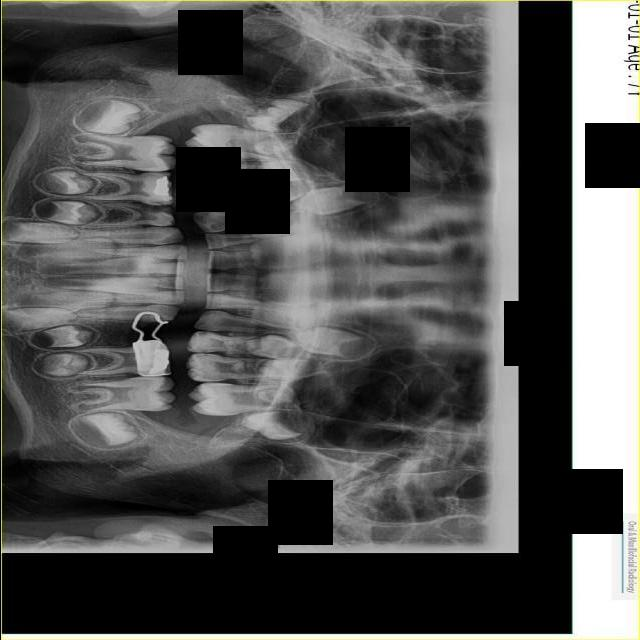NucleOSS Implant: (152, 175, 170, 197)
Sterngold Implant: (192, 210, 213, 226), (140, 204, 168, 215), (150, 200, 170, 206), (210, 223, 225, 230), (195, 348, 210, 354), (196, 188, 212, 193), (197, 206, 212, 211), (194, 332, 209, 337)
